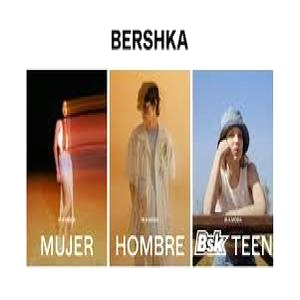bershka: (106, 72, 300, 300), (136, 14, 243, 42)
